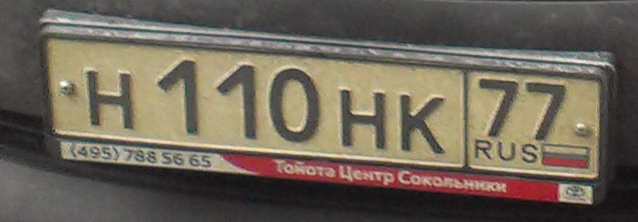character: (267, 59, 325, 146), (80, 61, 144, 137), (152, 55, 205, 143), (213, 59, 266, 147), (392, 88, 453, 158), (332, 86, 391, 155), (521, 76, 569, 143), (474, 76, 518, 140)
